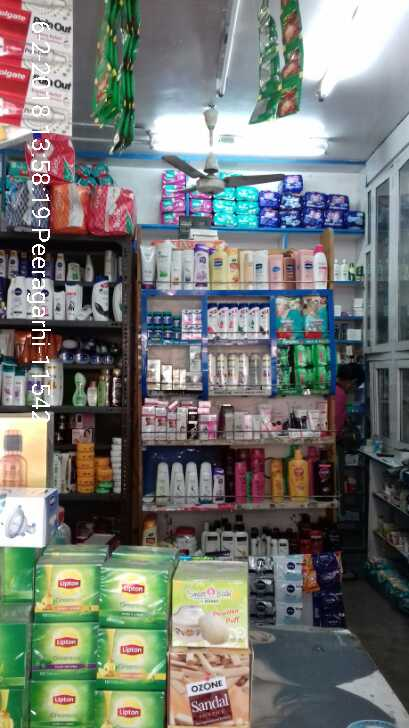vicks: (143, 306, 209, 349)
